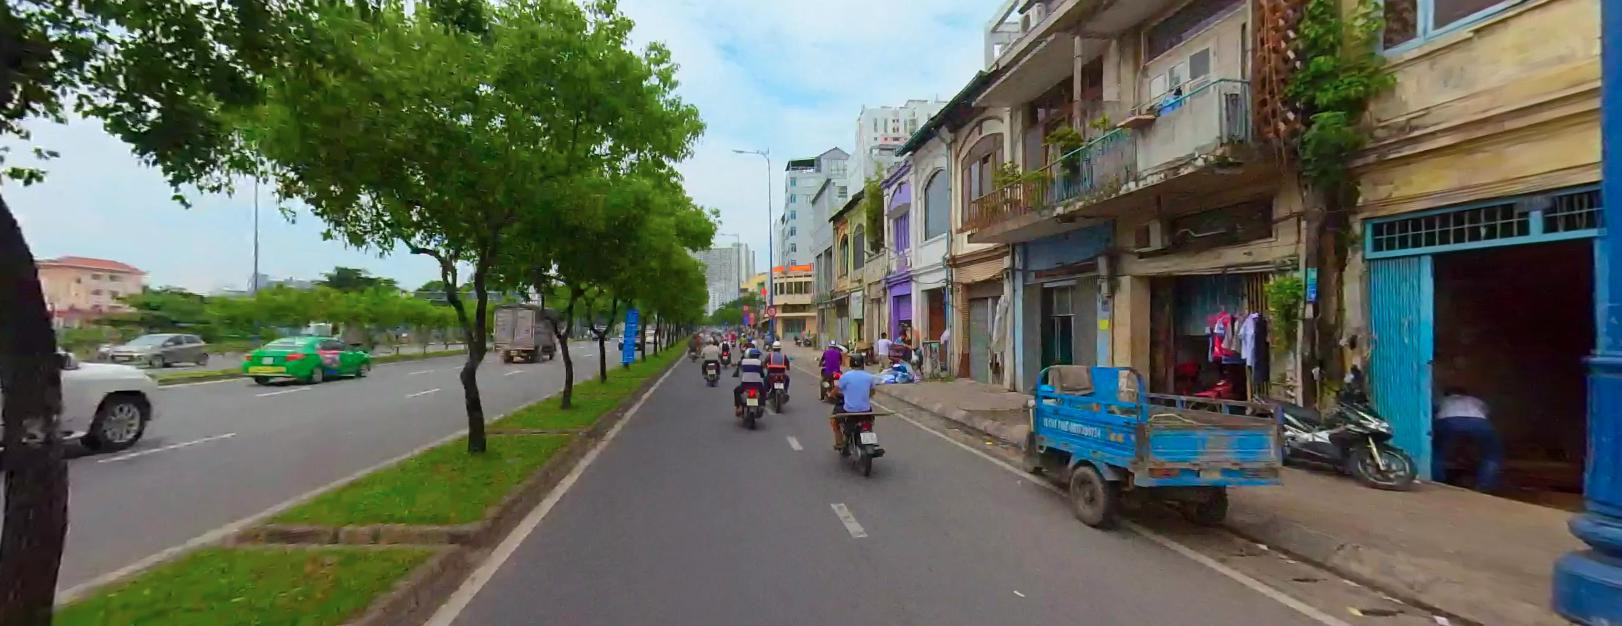Cam con lai: (742, 302, 748, 309)
Cam dung va do: (743, 311, 748, 316)
Cam re: (765, 305, 776, 315)
